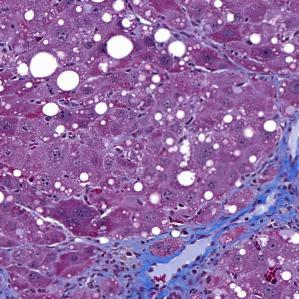fibrosis: (119, 233, 224, 294), (218, 171, 295, 233)
